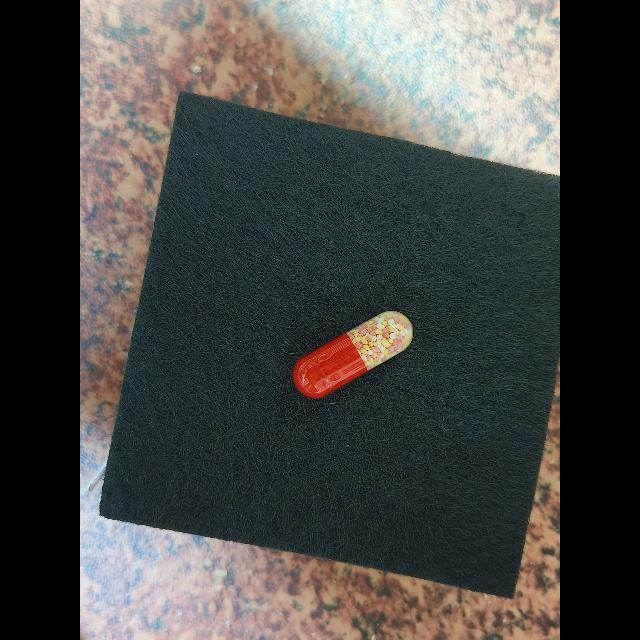Intact Capsule: (293, 310, 413, 399)
